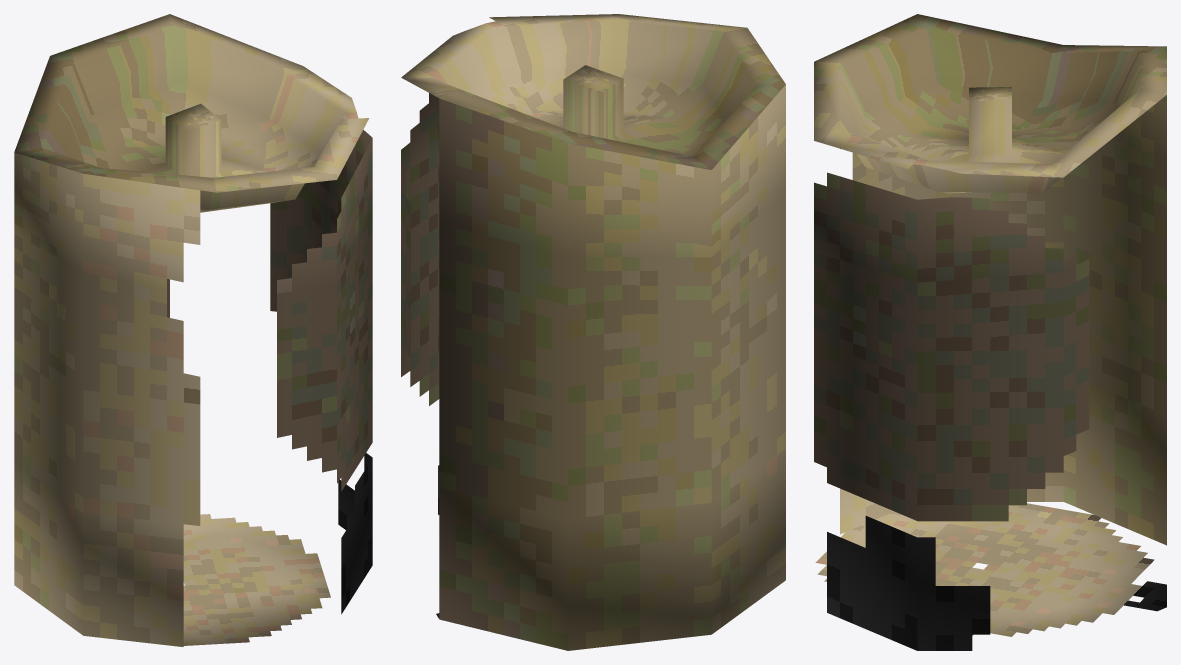
File: candle.fbx
3 views of the same model, side by side, from view 1: azimuth 30°, elevation 25°; view 2: azimuth 150°, elevation 25°; view 3: azimuth 270°, elevation 25° (orthographic). The views are drawn at different scales.
Parts seen in each view (by area): view 1: Cylinder; view 2: Cylinder; view 3: Cylinder.
Boxes of the visible parts, <box> form: Cylinder: <box>14,14,372,646</box>; Cylinder: <box>401,14,785,650</box>; Cylinder: <box>814,14,1166,650</box>.
Size of the model in its own units: 25.87 by 41.48 by 25.87.
